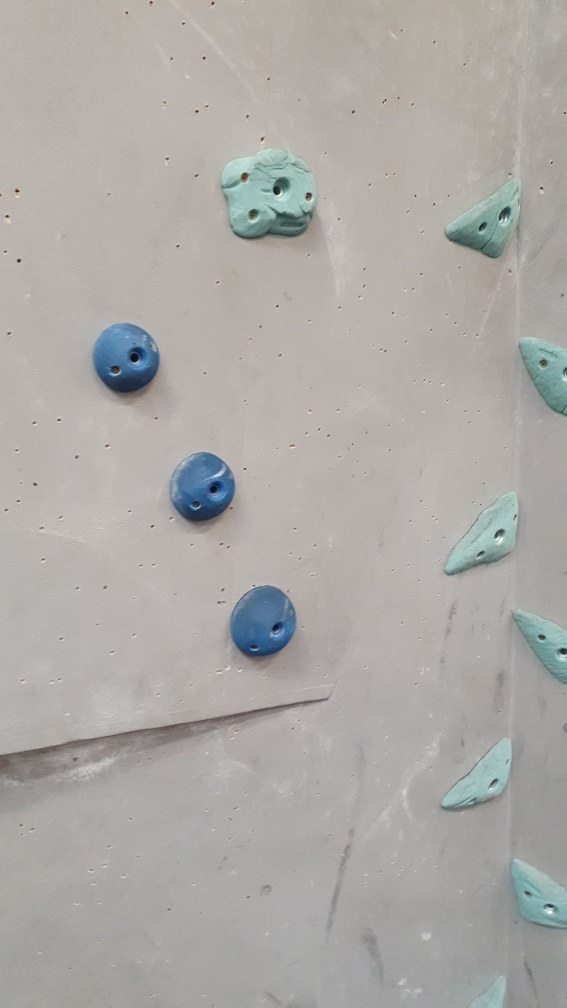Crimp: (438, 487, 524, 578), (444, 173, 527, 266), (435, 731, 516, 817), (505, 593, 567, 691), (503, 847, 567, 932), (514, 331, 567, 417)
Sloper: (162, 447, 244, 531), (225, 575, 302, 663), (89, 318, 163, 395)
